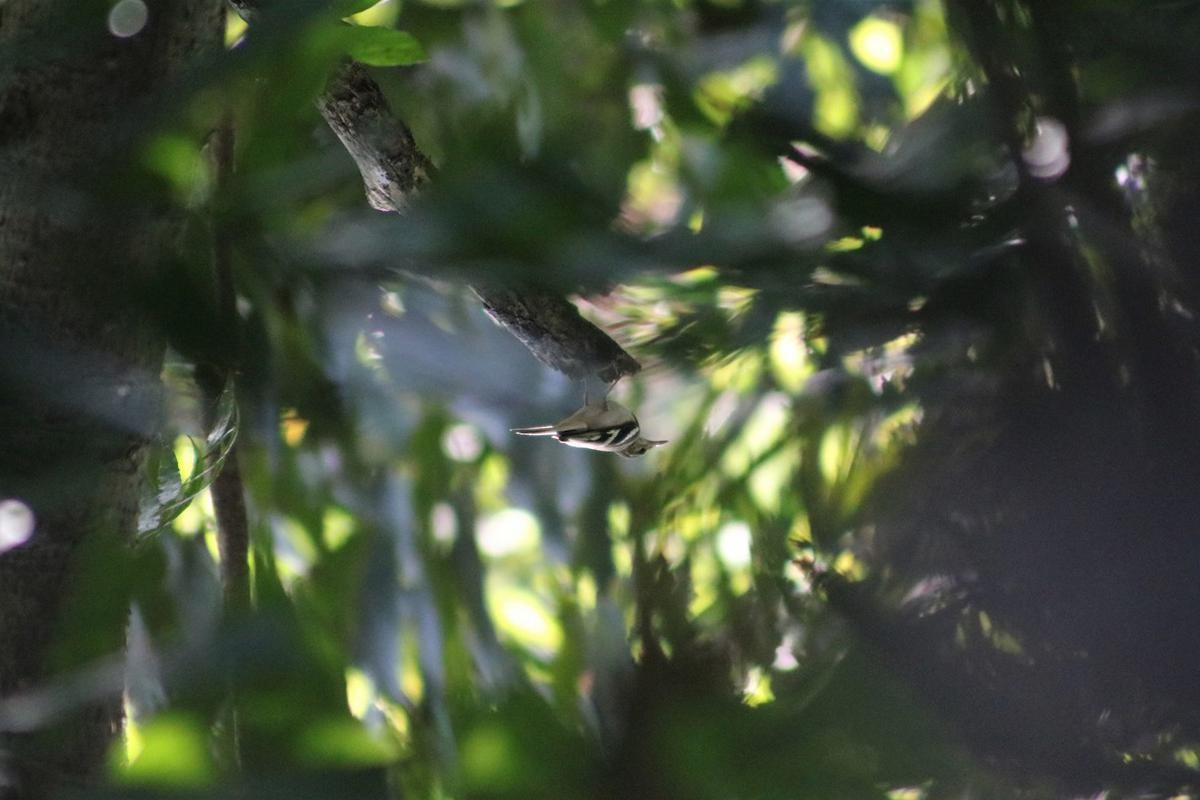wagtail: (516, 372, 686, 461)
